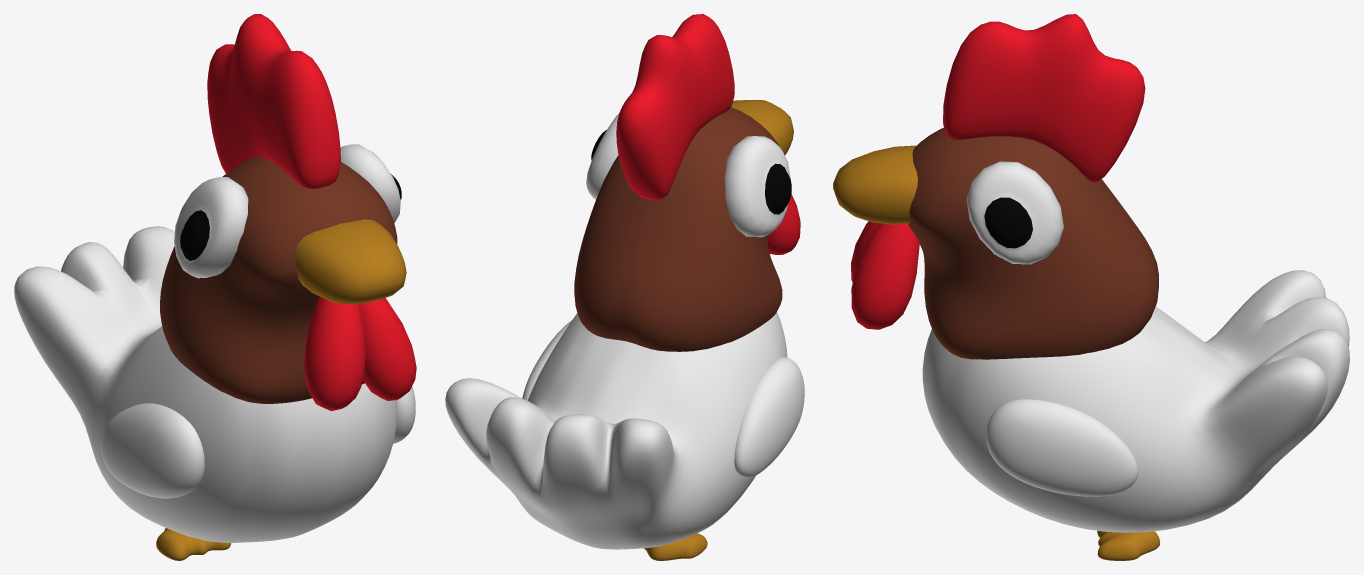
The model's file is Chicken.fbx.
3 views of the same model, side by side, from view 1: azimuth 30°, elevation 25°; view 2: azimuth 150°, elevation 25°; view 3: azimuth 270°, elevation 25° (orthographic). The views are drawn at different scales.
Visible parts, largest first — view 1: Cube.143; view 2: Cube.143; view 3: Cube.143.
Part boxes in pixels (<box>): Cube.143: <box>14,14,416,560</box>; Cube.143: <box>445,14,804,560</box>; Cube.143: <box>833,14,1349,560</box>.
Bounding box in the file's own units: 91.05 × 178 × 161.
